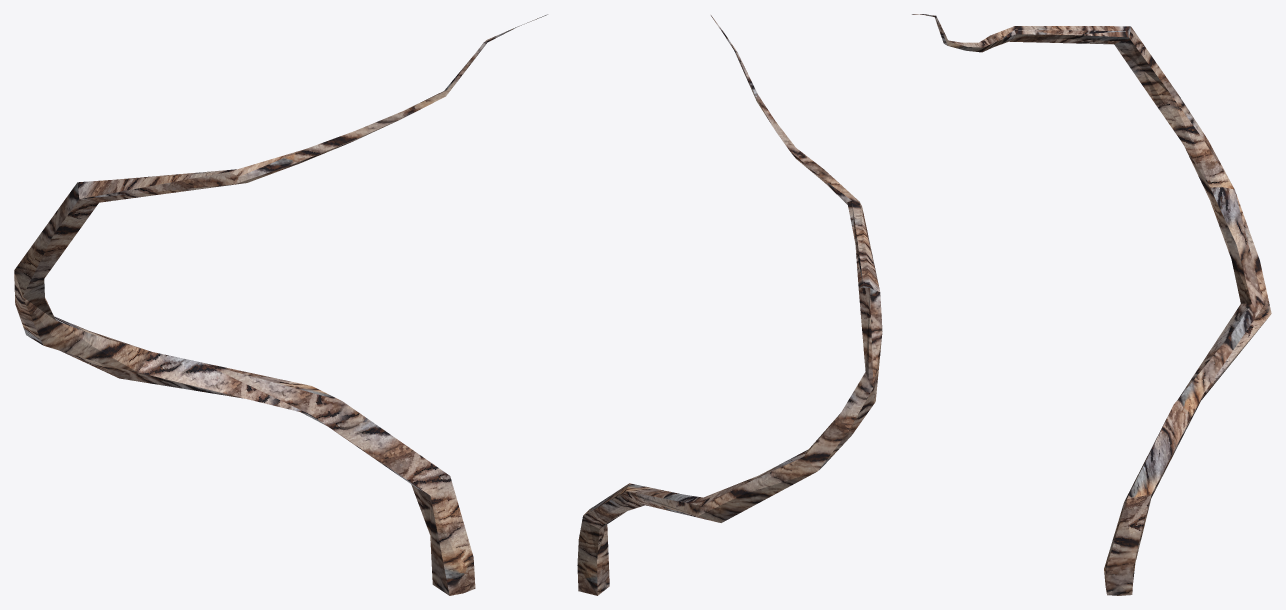
The model's file is Forest_1_Tree_6.gltf.
3 renders of one model, left to right at view 1: azimuth 30°, elevation 25°; view 2: azimuth 150°, elevation 25°; view 3: azimuth 270°, elevation 25°, orthographic. The views are drawn at different scales.
Visible parts, largest first — view 1: Forest_1_Tree_6; view 2: Forest_1_Tree_6; view 3: Forest_1_Tree_6.
Boxes of the visible parts, x1=… form: Forest_1_Tree_6: x1=14, y1=14, x2=547, y2=595; Forest_1_Tree_6: x1=577, y1=15, x2=882, y2=595; Forest_1_Tree_6: x1=912, y1=14, x2=1271, y2=595.
Size of the model in its own units: 16.01 by 24.6 by 14.19.
1 material, 1 textured.
